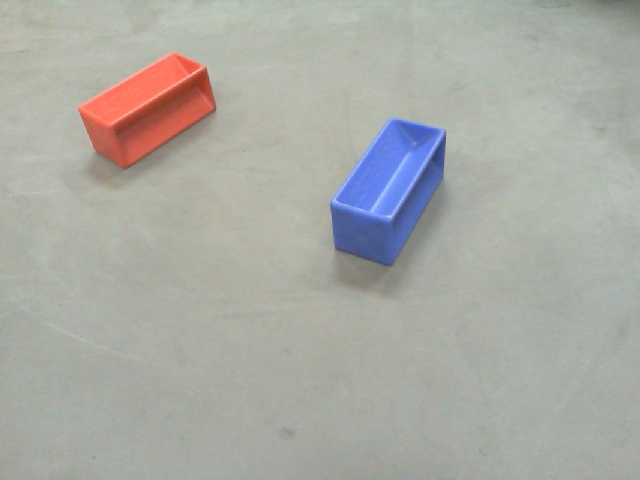BlueSample: (325, 116, 452, 269)
RedSample: (75, 50, 217, 173)
